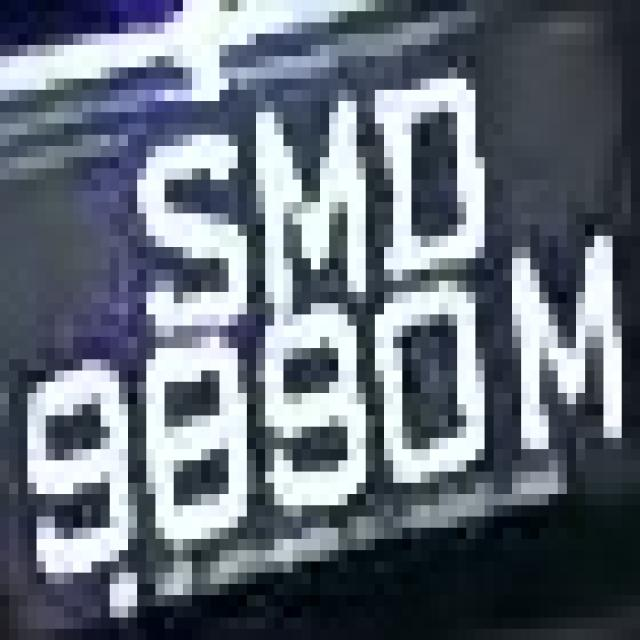0: (366, 247, 494, 505)
8: (128, 292, 274, 573)
9: (9, 348, 156, 606), (238, 303, 384, 539)
D: (356, 34, 494, 303)
M: (493, 224, 640, 482), (238, 78, 366, 314)
S: (128, 101, 256, 337)
